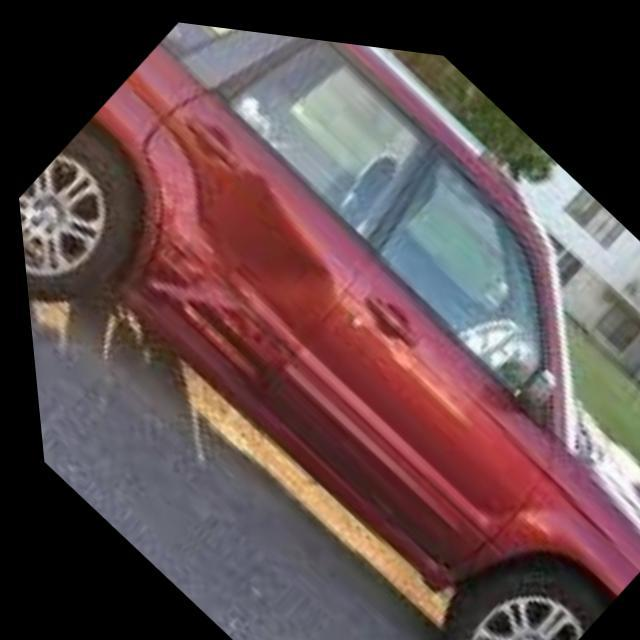dent: (136, 119, 325, 376)
